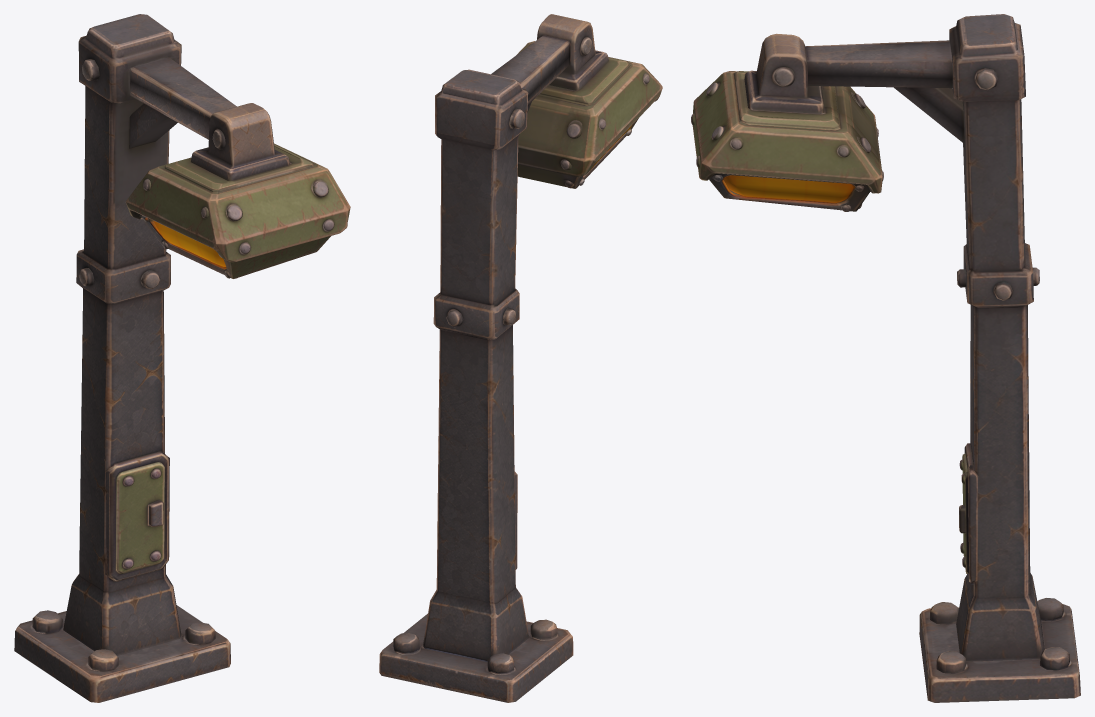
The model's file is lamp.fbx.
3 views of the same model, side by side, from view 1: azimuth 30°, elevation 25°; view 2: azimuth 150°, elevation 25°; view 3: azimuth 270°, elevation 25° (orthographic). The views are drawn at different scales.
Visible parts, largest first — view 1: tripo_459b0027_3c7a_41d4_8c69_dff8d2ac3427; view 2: tripo_459b0027_3c7a_41d4_8c69_dff8d2ac3427; view 3: tripo_459b0027_3c7a_41d4_8c69_dff8d2ac3427.
Part boxes in pixels (x1,y1,x2,y2): tripo_459b0027_3c7a_41d4_8c69_dff8d2ac3427: (14,14,350,702); tripo_459b0027_3c7a_41d4_8c69_dff8d2ac3427: (379,14,662,702); tripo_459b0027_3c7a_41d4_8c69_dff8d2ac3427: (691,14,1080,702).
Size of the model in its own units: 144 by 550 by 305.
1 material, 1 textured.
